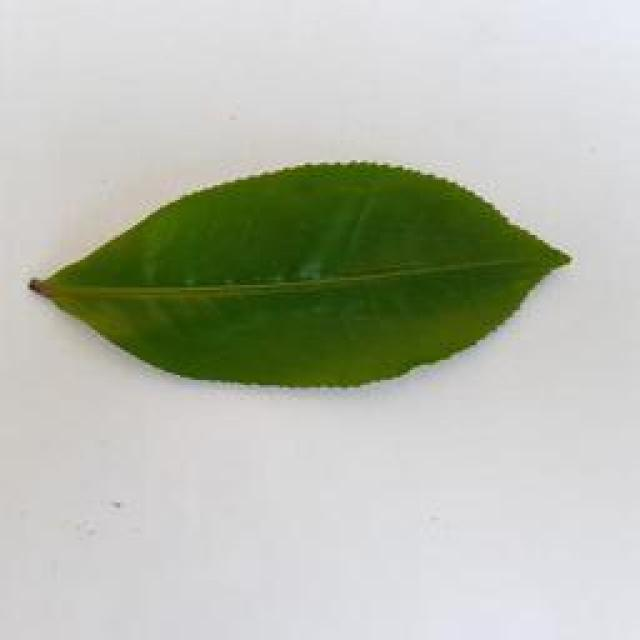Healthy: (29, 162, 576, 390)
